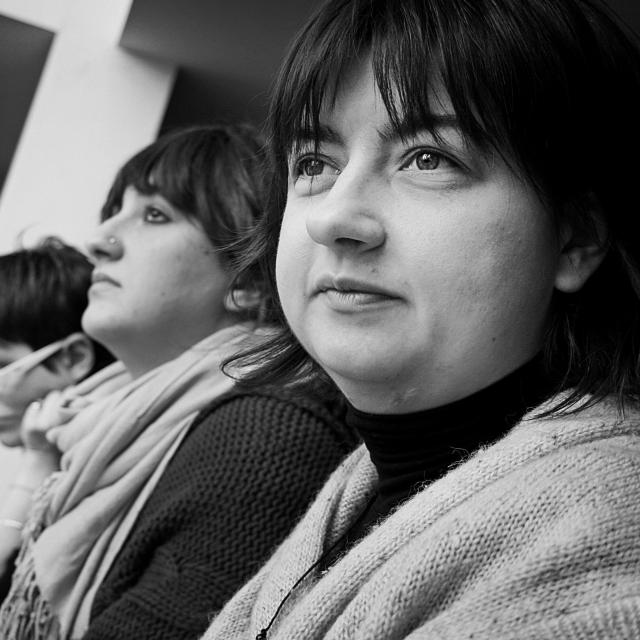no-glass: (280, 146, 470, 191)
